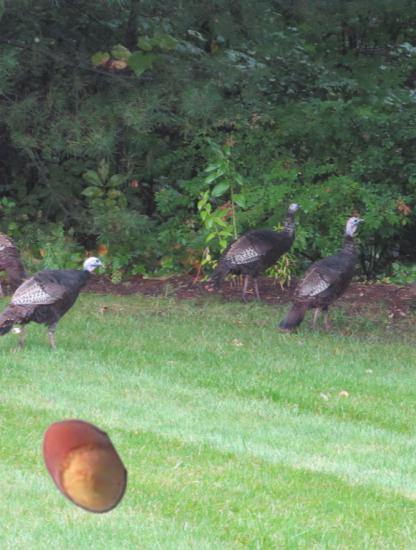Hazelnut: (30, 410, 140, 520)
